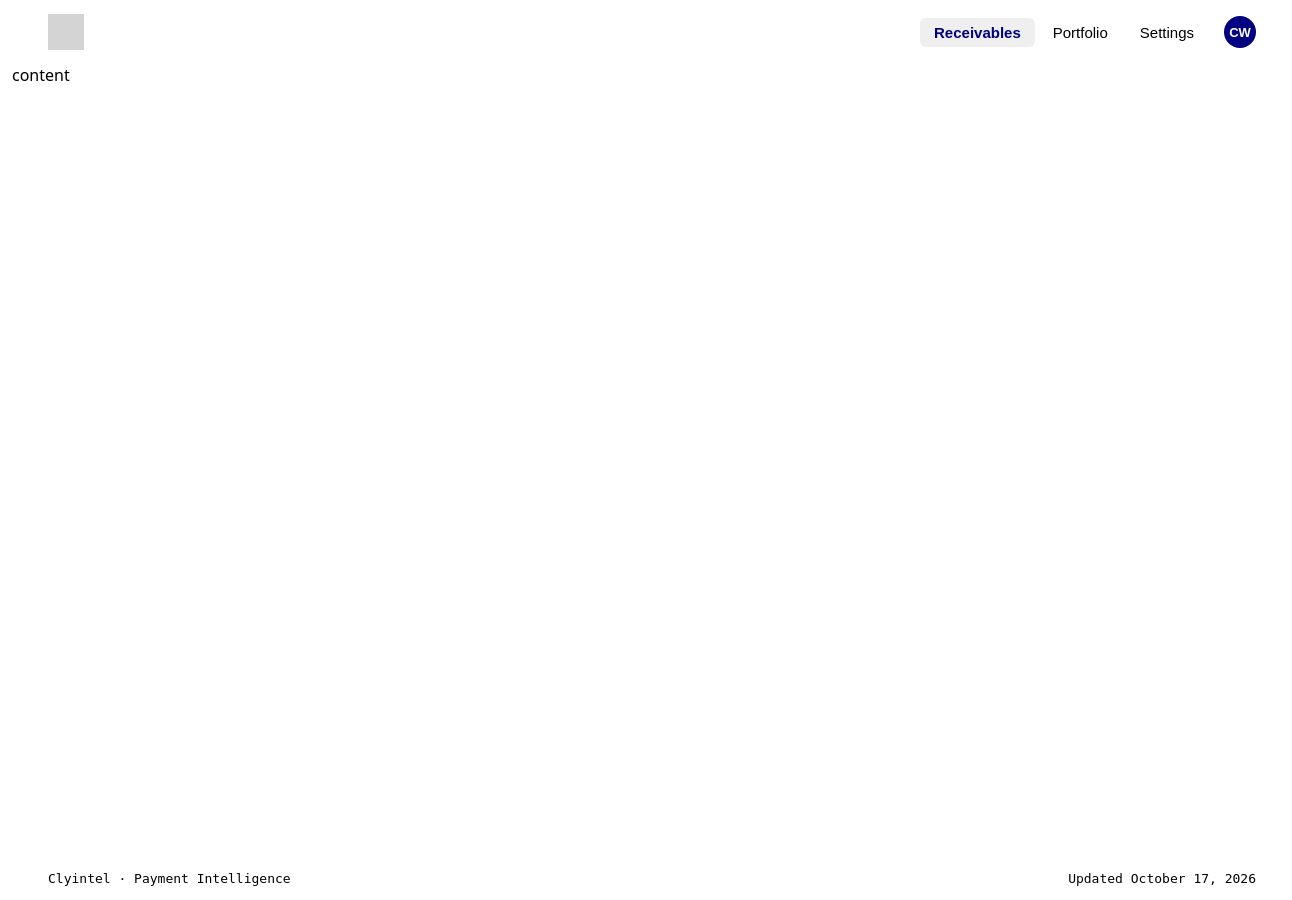
AppShell — account-menu identity › clears the identity on sign-out (does not linger on the old email)
Click the button with aria-label "Account menu": (1240, 32) left=1224, top=16, right=1256, bottom=48
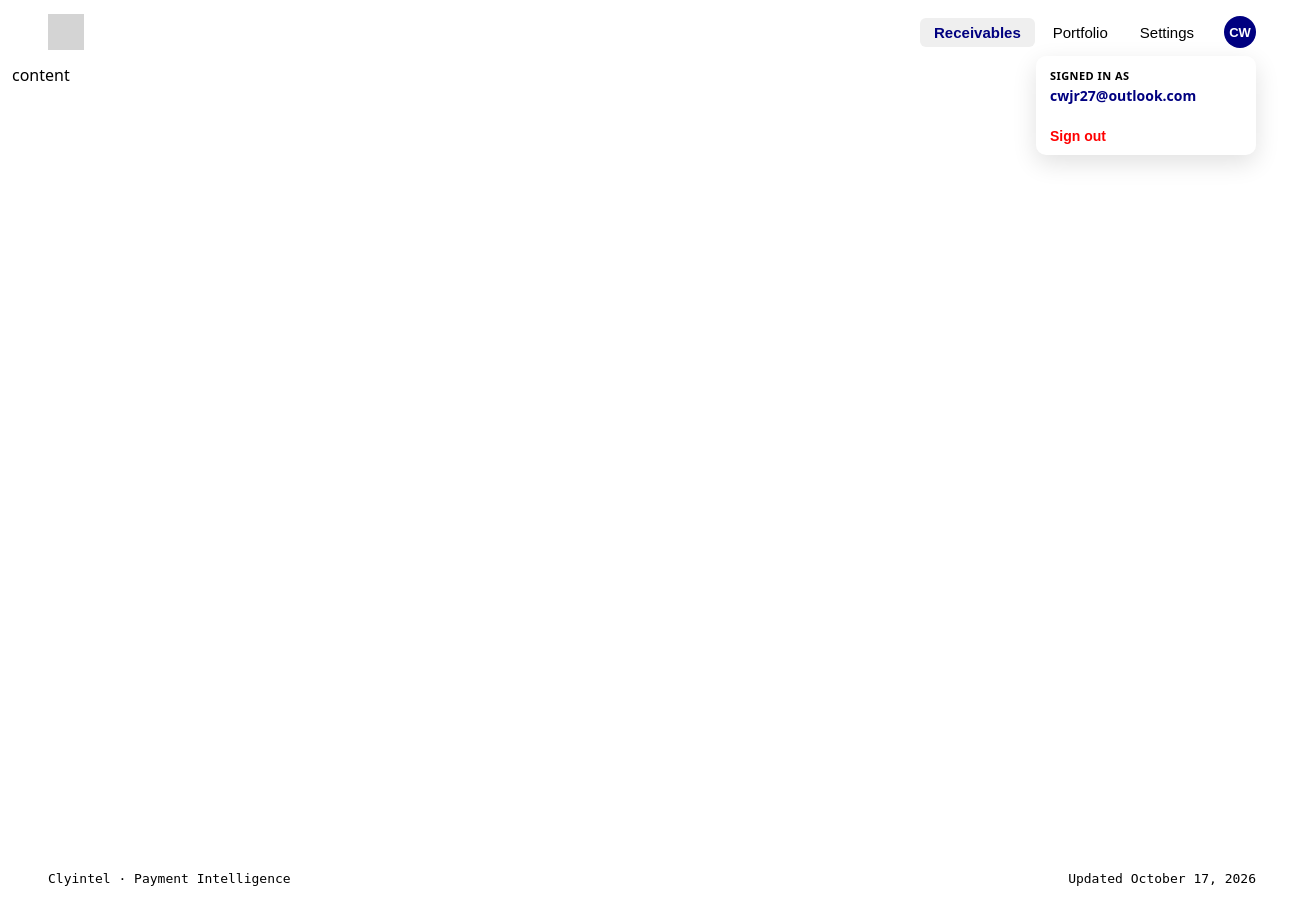
Now the text "cwjr27@outlook.com" is shown, box left=1050, top=86, right=1196, bottom=105
Click the menu item "Sign out": (1146, 136) left=1036, top=117, right=1256, bottom=155
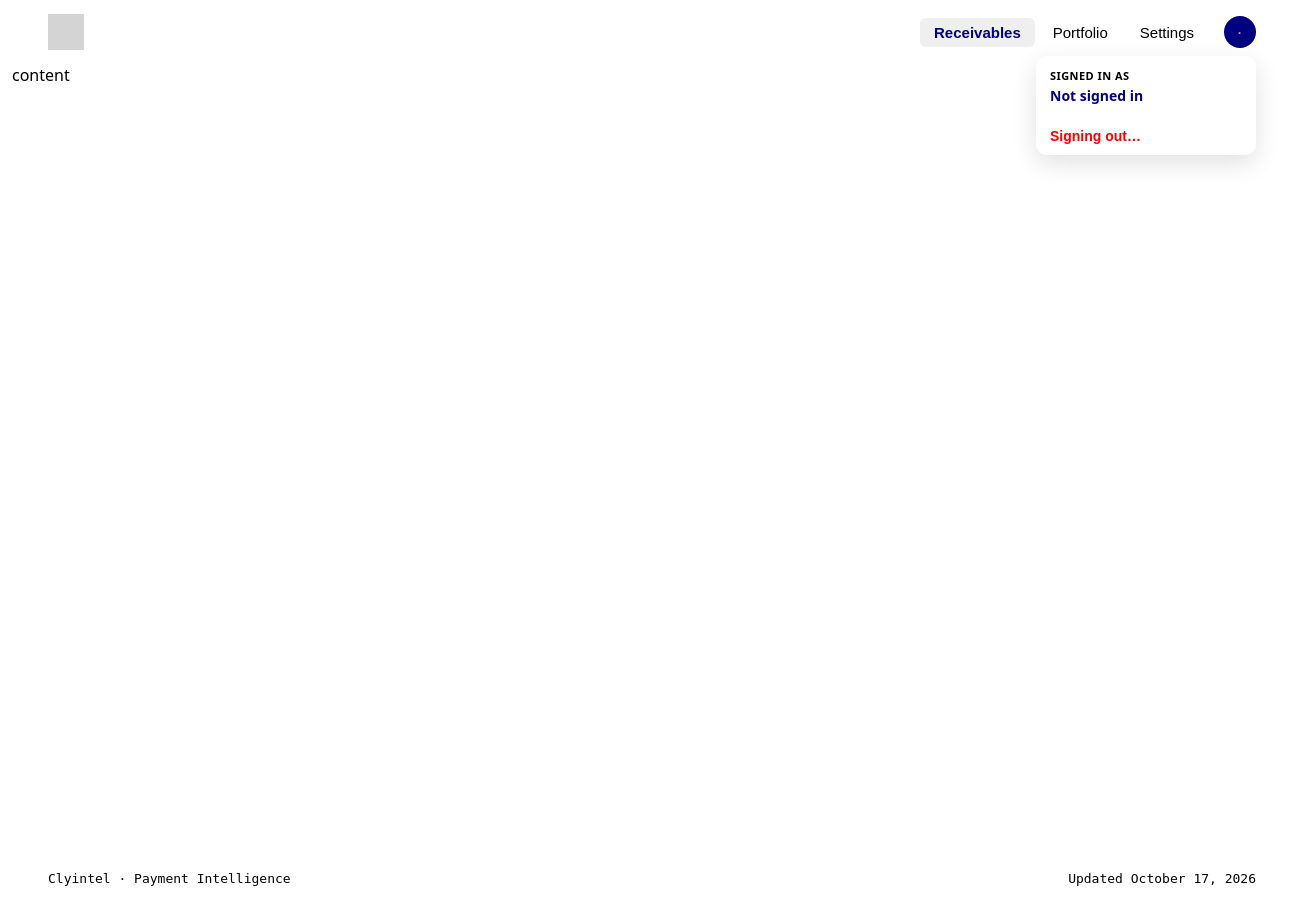
Now the text "cwjr27@outlook.com" is gone
Now the menu item "Signing out…" is shown, box left=1036, top=117, right=1256, bottom=155
